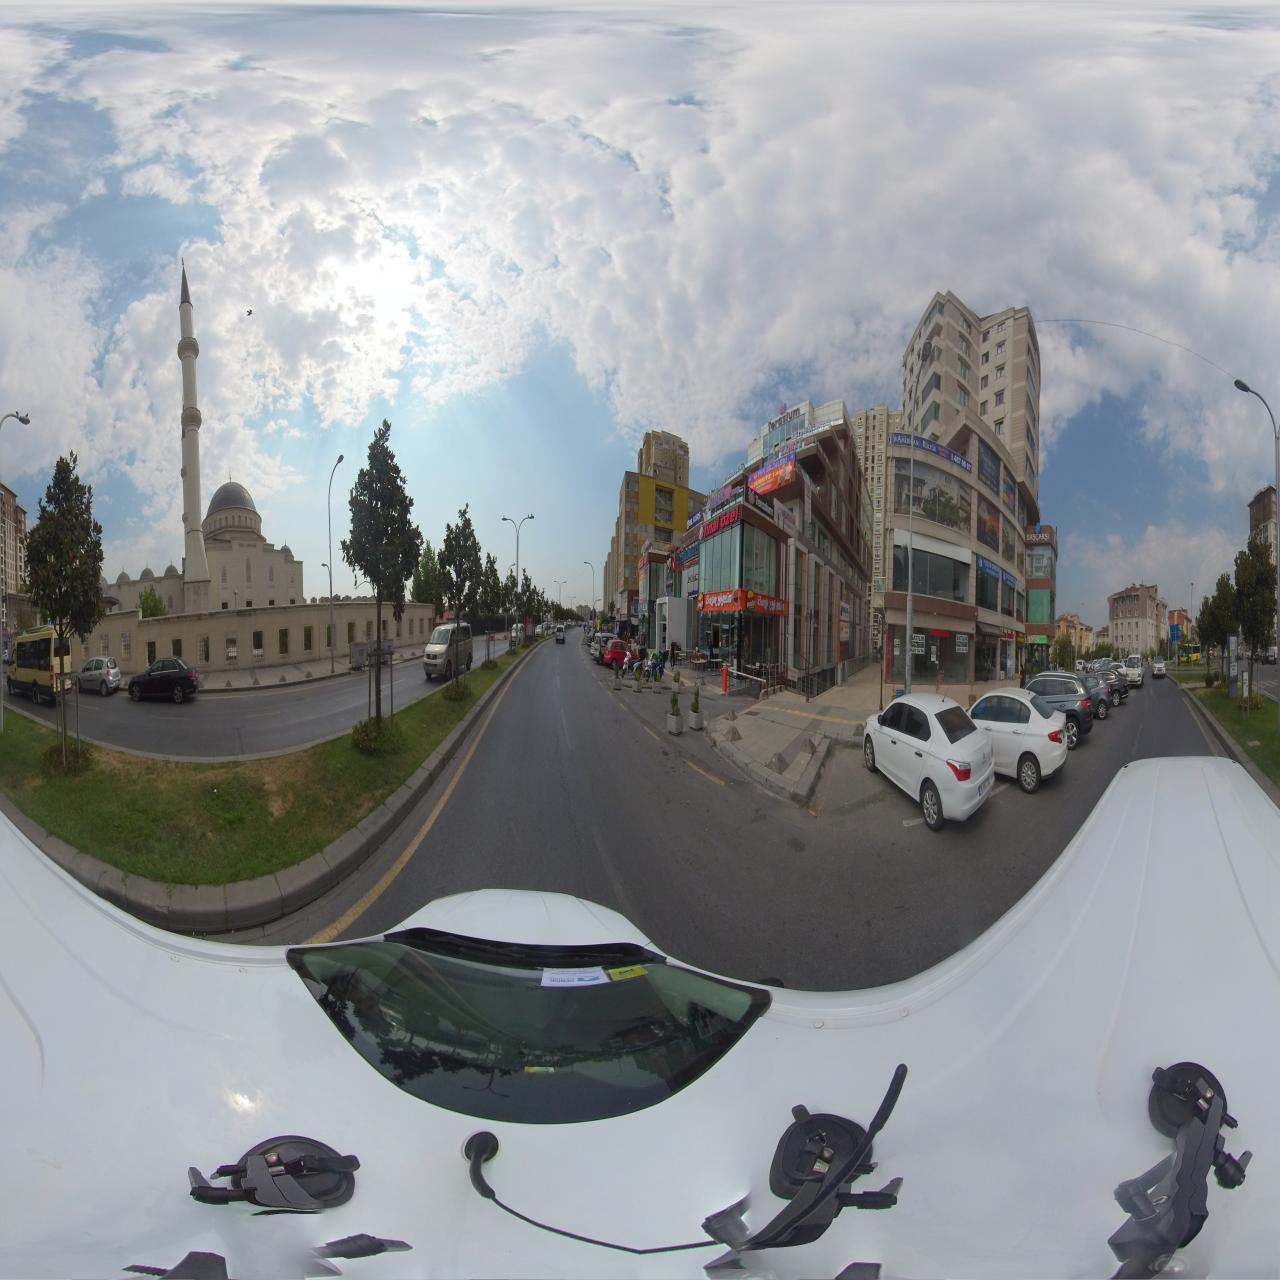SignStore: (704, 501, 741, 538), (743, 588, 788, 615), (696, 590, 741, 611), (747, 488, 774, 519), (775, 498, 796, 536), (976, 554, 1000, 579), (1002, 570, 1016, 590), (639, 551, 648, 570), (1002, 628, 1014, 641), (1030, 635, 1046, 645), (639, 601, 648, 613), (1016, 632, 1024, 642)
